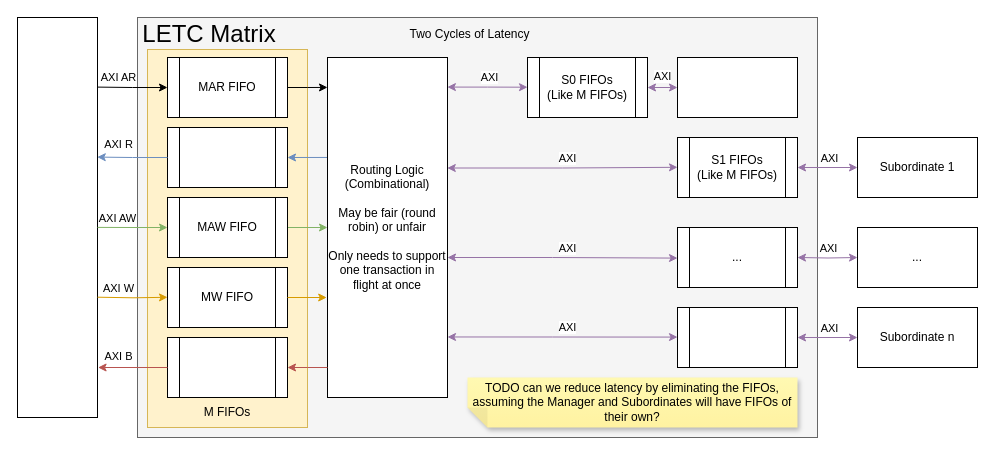
Image size: 995x455. Some labels were removed from this diagram. Each missing label, with the centre of its shape:
Default Subordinate (For DECERRs): the point at 737,87
Manager: the point at 57,217
MB FIFO: the point at 227,367
MR FIFO: the point at 227,157
Sn FIFOs (Like M FIFOs): the point at 737,337
